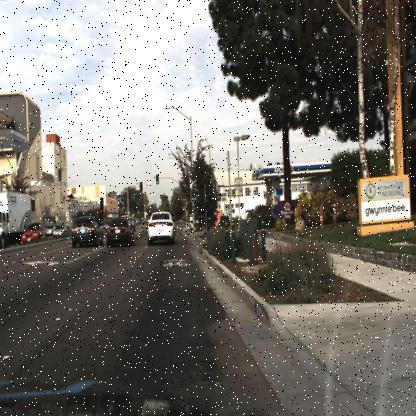car: (71, 212, 103, 251), (105, 212, 139, 248), (146, 209, 176, 248), (20, 222, 42, 244), (226, 201, 244, 225), (52, 223, 67, 241)
trafficLight-Green: (153, 171, 161, 188)
trafficLight-Red: (137, 177, 144, 194), (126, 185, 132, 199)
